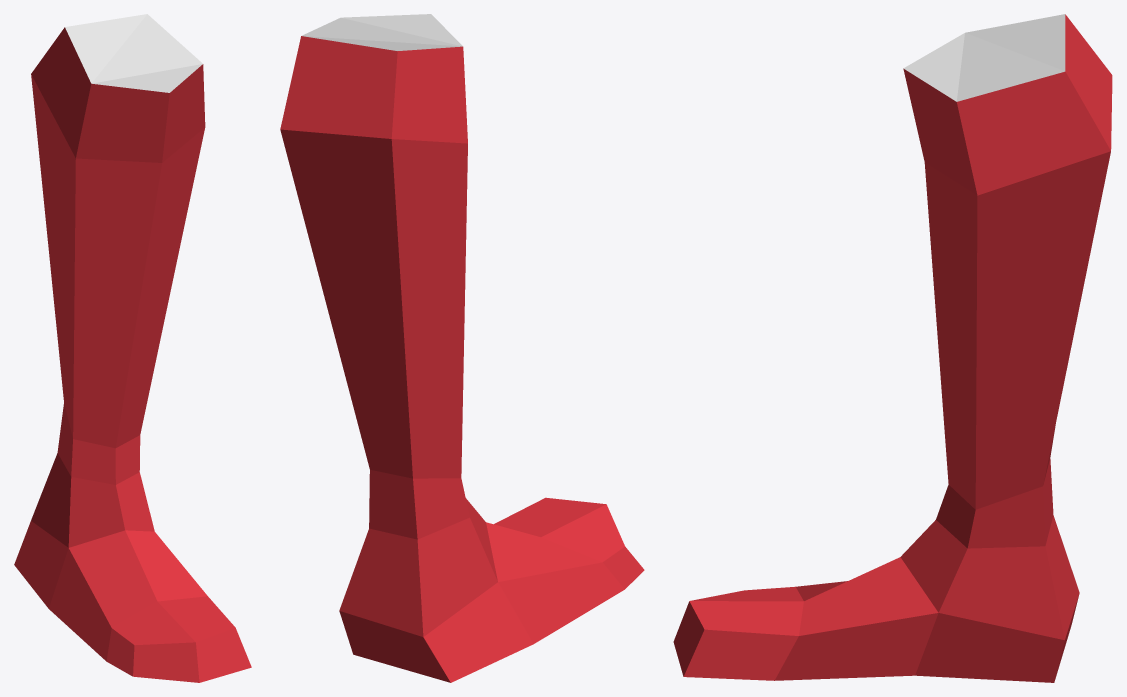
File: MazeLow_leg2.fbx
3 renders of one model, left to right at view 1: azimuth 30°, elevation 25°; view 2: azimuth 150°, elevation 25°; view 3: azimuth 270°, elevation 25°, orthographic. The views are drawn at different scales.
Parts seen in each view (by area): view 1: leg_l; view 2: leg_l; view 3: leg_l.
Boxes of the visible parts, x1,y1,x2,y2 form: leg_l: [14, 14, 251, 682]; leg_l: [280, 14, 644, 682]; leg_l: [673, 14, 1112, 682].
Size of the model in its own units: 17.35 by 48.83 by 30.1.
